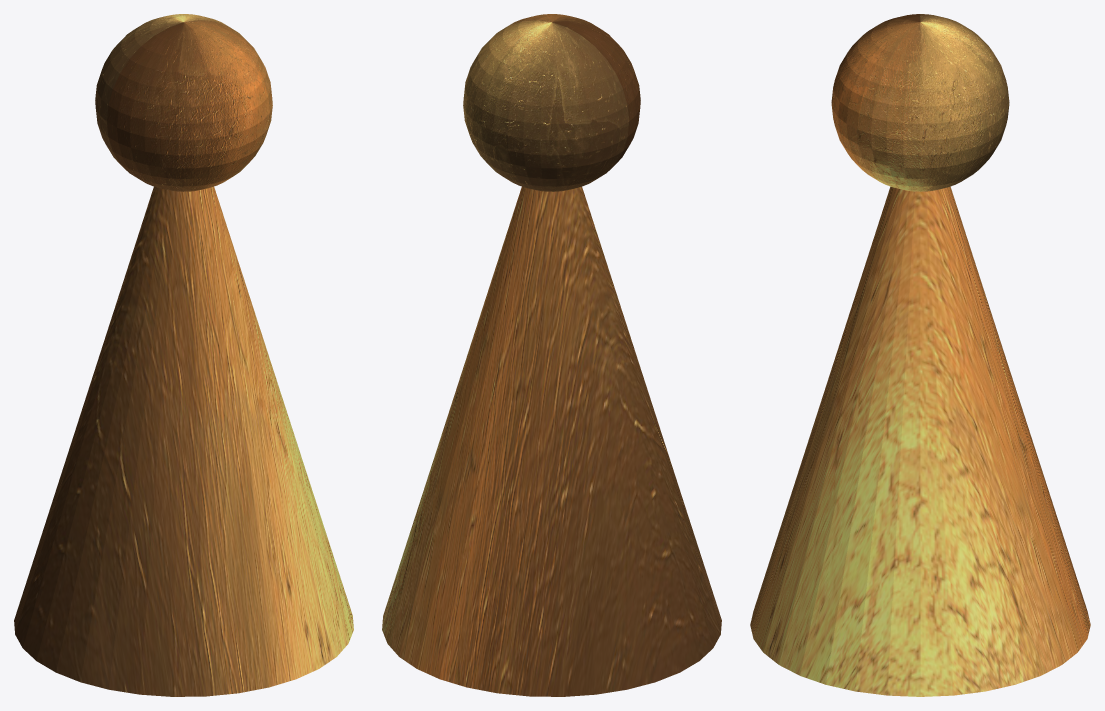
Rendered from monk.glb.
The picture shows the model from 3 angles, left to right: view 1: azimuth 30°, elevation 25°; view 2: azimuth 150°, elevation 25°; view 3: azimuth 270°, elevation 25°; orthographic projection.
Visible parts, largest first — view 1: Body, Head; view 2: Body, Head; view 3: Body, Head.
Boxes of the visible parts, x1,y1,x2,y2 form: Body: [14, 186, 353, 696]; Head: [95, 14, 272, 191]; Body: [382, 186, 721, 696]; Head: [463, 14, 640, 191]; Body: [750, 186, 1090, 696]; Head: [831, 14, 1009, 191].
Size of the model in its own units: 1.01 by 1.98 by 1.01.
1 material, 1 textured.
